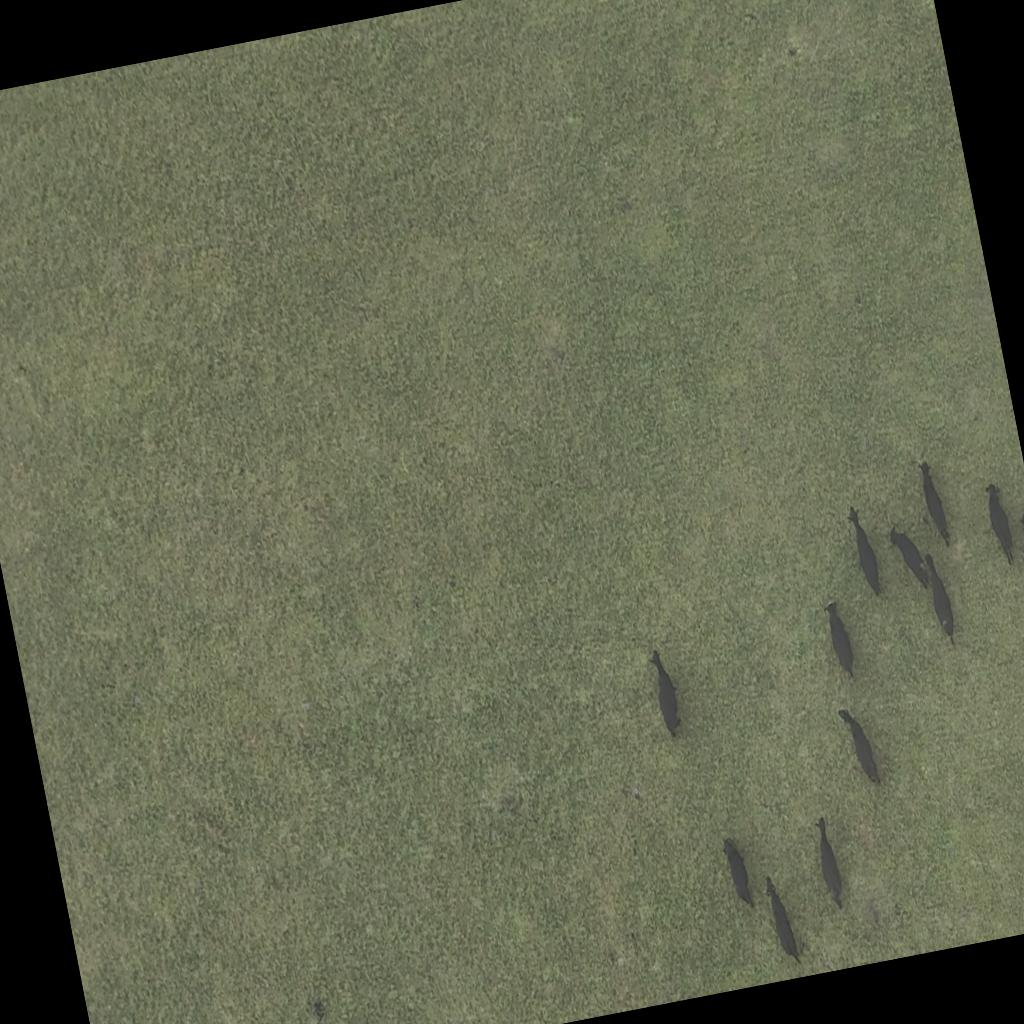cow: (836, 700, 883, 798), (644, 644, 686, 742), (921, 546, 960, 650), (763, 872, 803, 970), (846, 504, 884, 598), (886, 520, 932, 596), (916, 456, 953, 550), (812, 817, 848, 913), (822, 594, 860, 684), (984, 480, 1019, 568), (721, 833, 757, 914), (1013, 510, 1024, 591)
